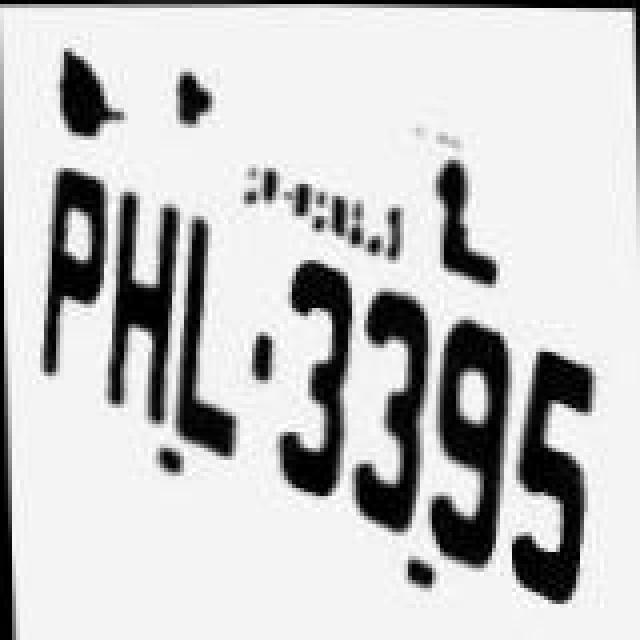3: (344, 280, 436, 532), (274, 242, 358, 502)
5: (502, 332, 610, 600)
9: (426, 310, 518, 578)
H: (98, 182, 190, 430)
L: (166, 204, 242, 460)
P: (36, 162, 116, 390)
